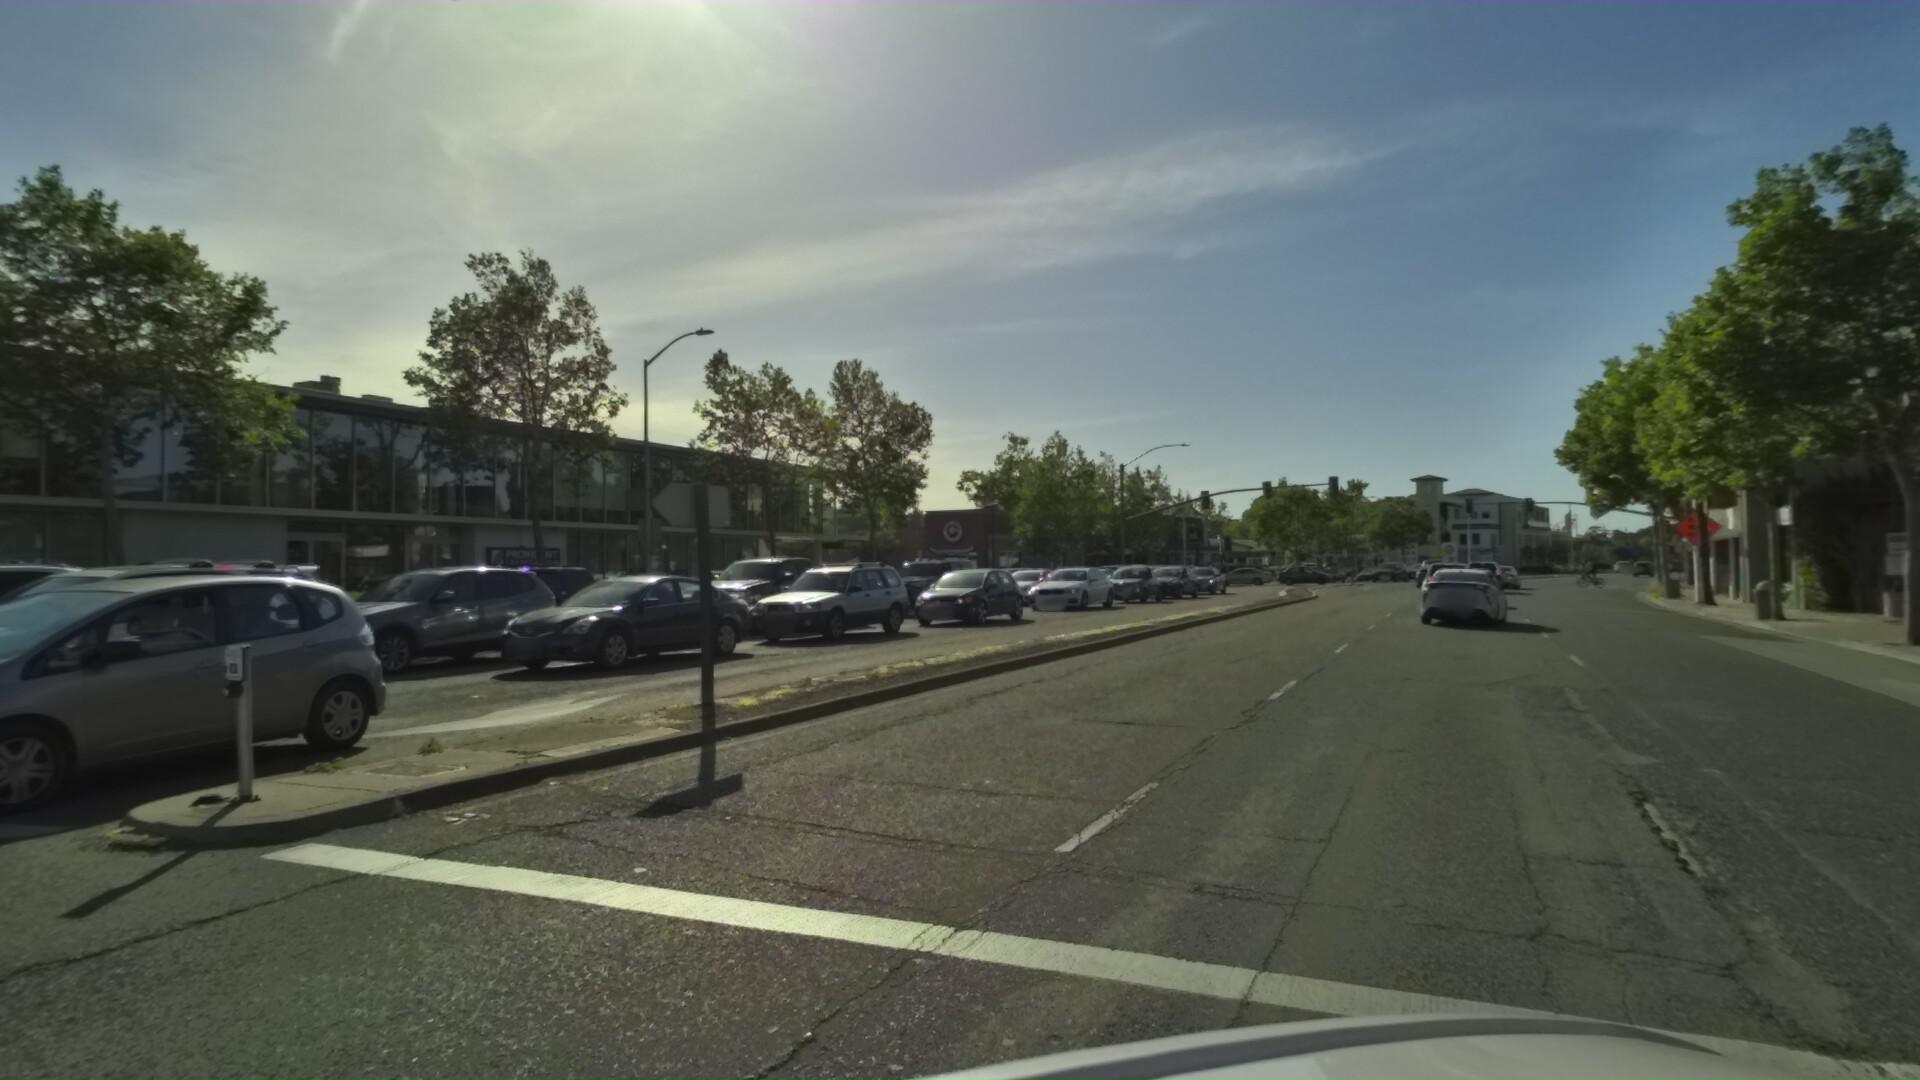bicycle: (1578, 554, 1629, 589)
car: (0, 568, 397, 860), (0, 535, 385, 773), (245, 560, 567, 682), (0, 578, 324, 692), (469, 568, 767, 678), (0, 550, 144, 771), (382, 559, 618, 657), (662, 549, 889, 645), (742, 556, 922, 646), (647, 564, 791, 632), (909, 563, 1035, 626), (873, 553, 986, 616), (1429, 560, 1526, 625), (1026, 563, 1131, 612), (989, 564, 1077, 611), (1106, 560, 1178, 607), (1428, 556, 1487, 605), (1145, 563, 1213, 604), (1282, 560, 1358, 588), (1171, 559, 1245, 585), (1184, 563, 1238, 597), (1473, 556, 1520, 595), (1207, 562, 1274, 588), (1420, 559, 1464, 593), (1506, 559, 1545, 593), (1909, 559, 1920, 622)
